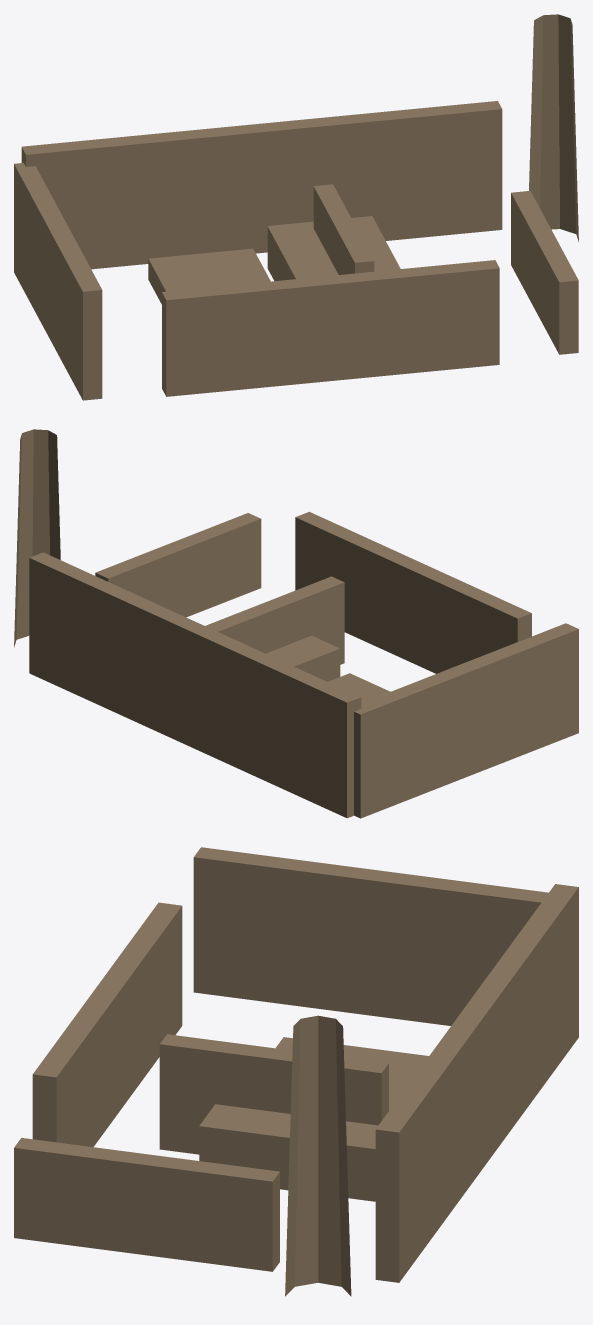
File: balashimill.glb
3 renders of one model, top to bottom at view 1: azimuth 30°, elevation 25°; view 2: azimuth 150°, elevation 25°; view 3: azimuth 270°, elevation 25°, orthographic. The views are drawn at different scales.
Parts seen in each view (by area): view 1: balashimill_lod0; view 2: balashimill_lod0; view 3: balashimill_lod0.
Part boxes in pixels (x1,y1,x2,y2): balashimill_lod0: (14,14,578,400); balashimill_lod0: (14,429,578,818); balashimill_lod0: (14,847,578,1296).
Size of what is drawn, in the model's own units: 28.1 by 10.8 by 20.44.
